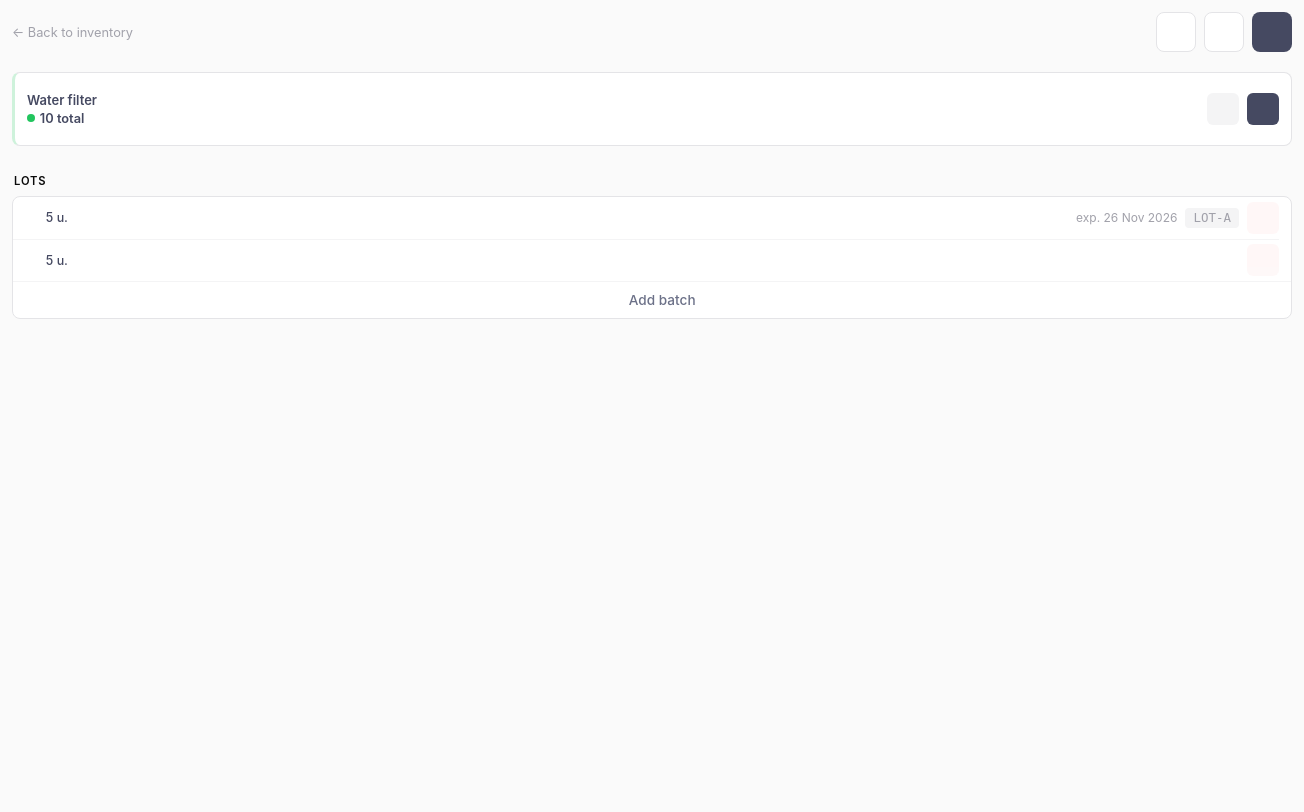
Scenario: StockDetailPage › shows error toast when add-lot fails with a server error
Expected: the text "Water filter" is shown, [27,92,97,108]
Click the button with test id "add-lot-toggle" at (652, 300), box [13,281,1291,318]
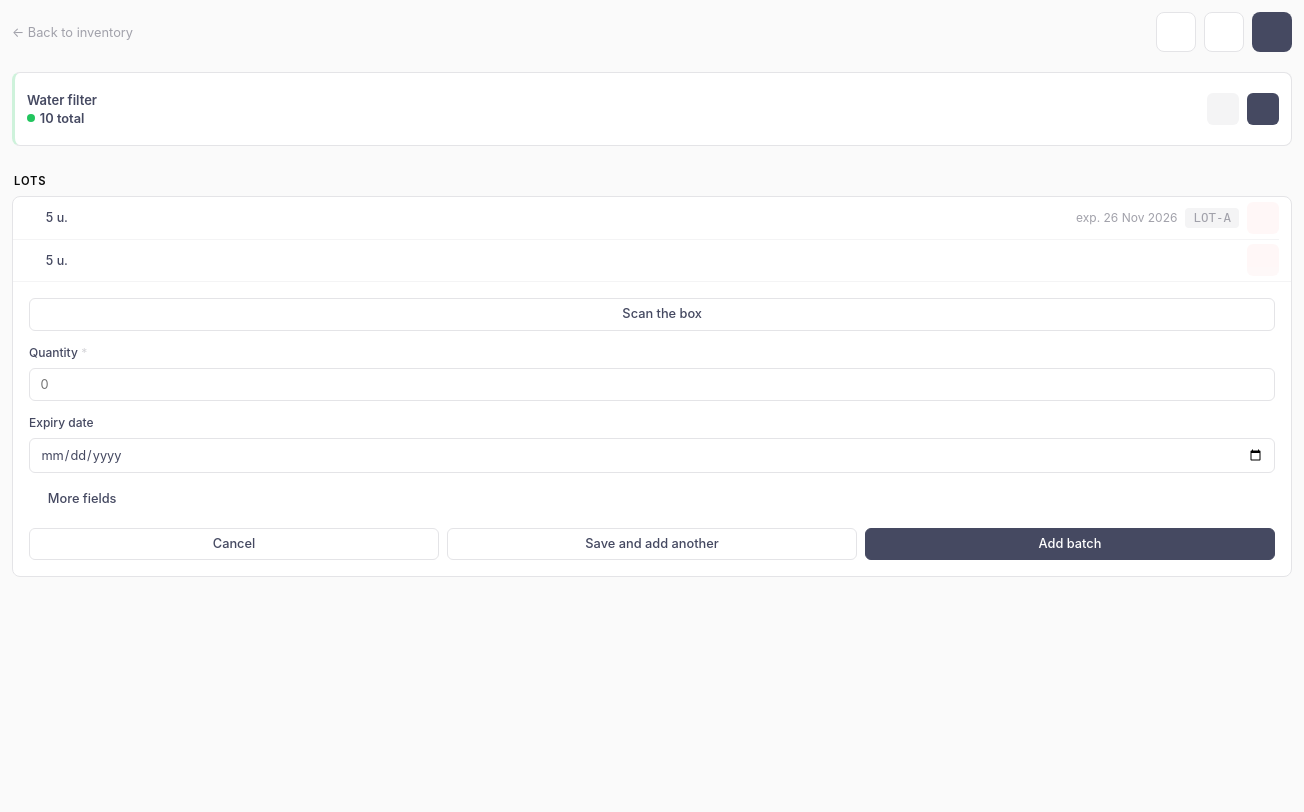
Type "3" into the number field with placeholder "0" at (652, 384), box [29,368,1275,400]
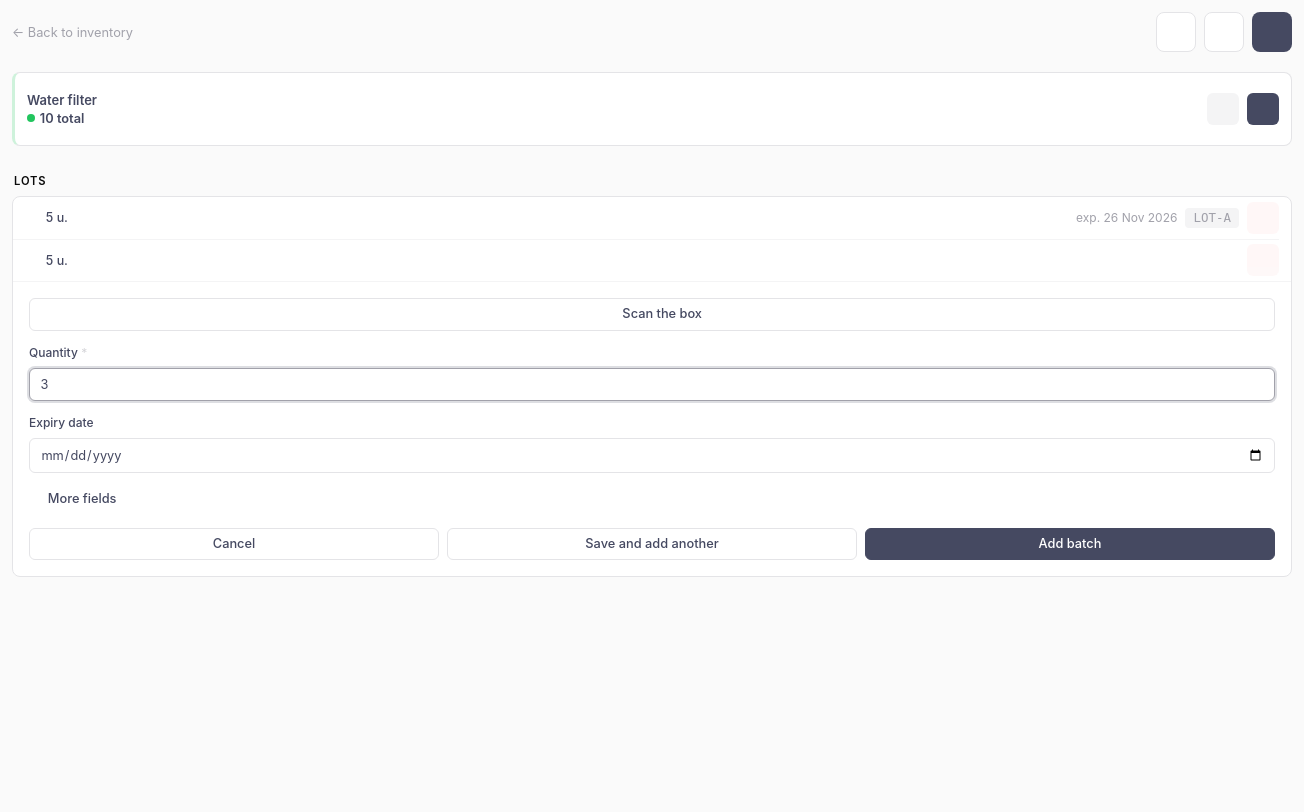
Click the button "Add batch" at (1070, 544), box [865,528,1275,560]
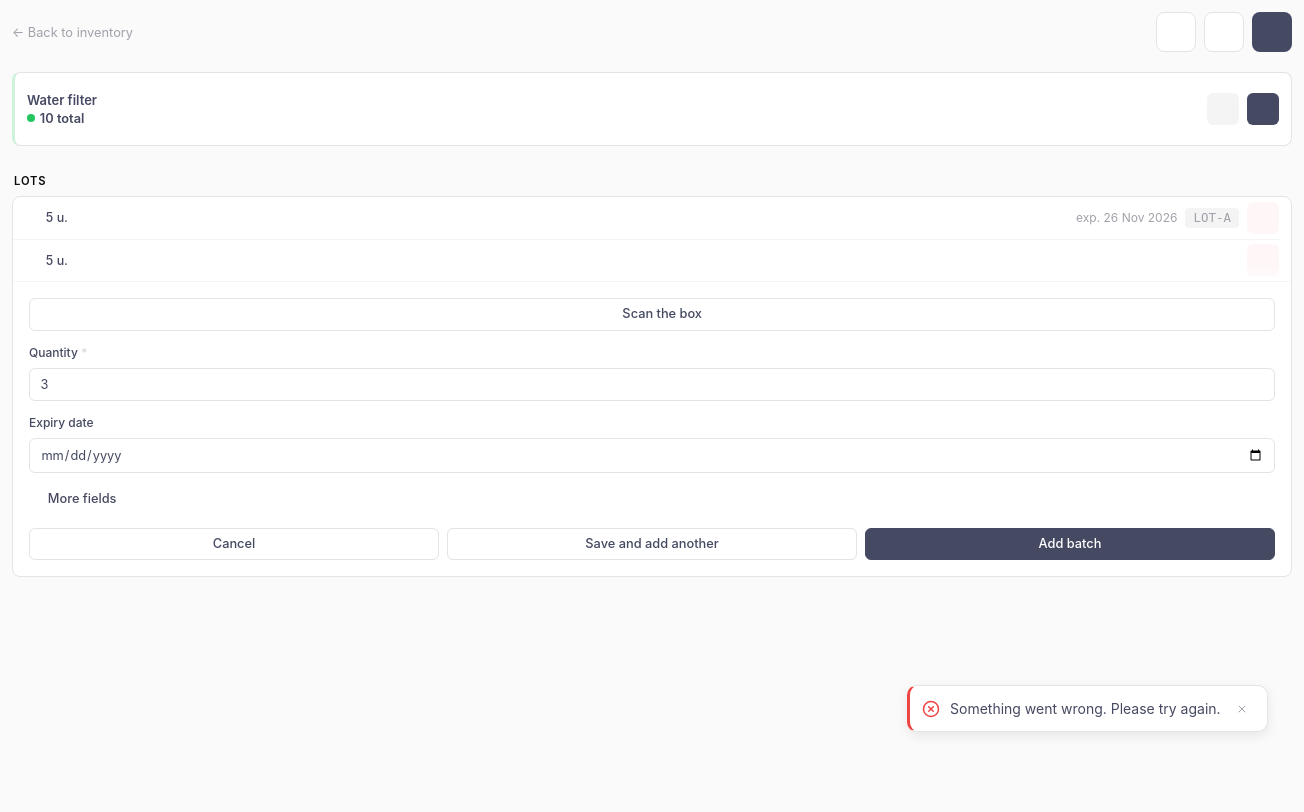
Now the text "Something went wrong. Please try again." is shown, box [950,700,1221,718]
